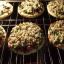pizza: (7, 22, 45, 51), (14, 1, 45, 17), (46, 1, 64, 19)
